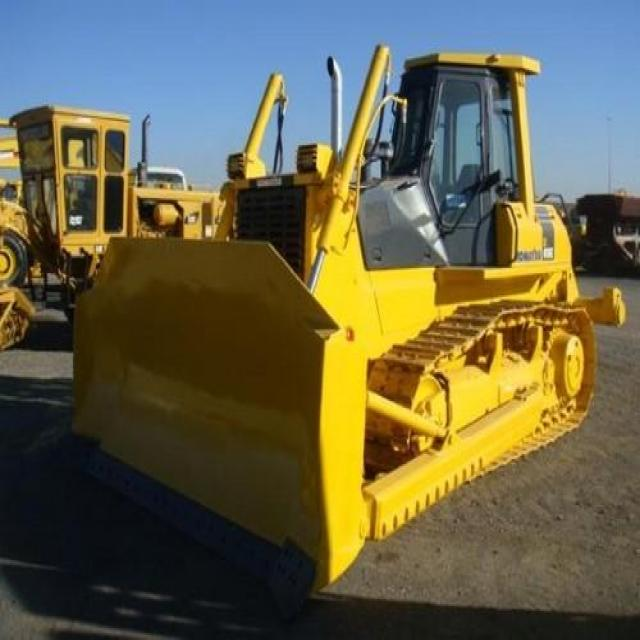Bulldozer: (44, 28, 608, 620)
